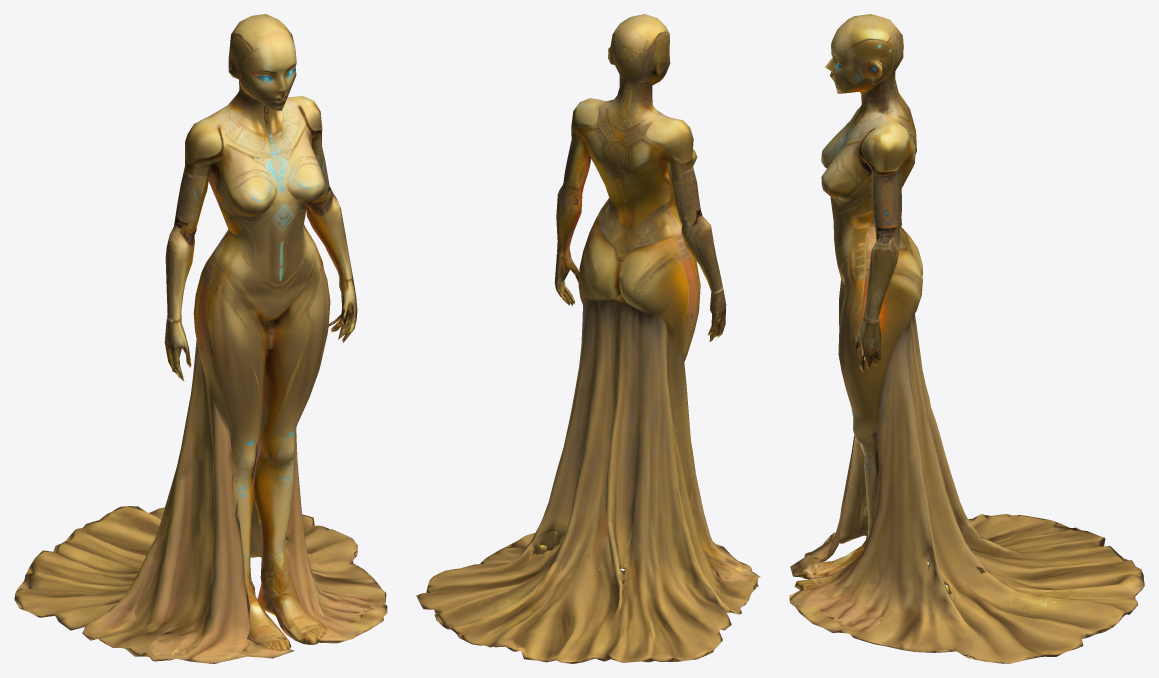
The model's file is An_ancient_android_gold_dress.glb.
3 renders of one model, left to right at view 1: azimuth 30°, elevation 25°; view 2: azimuth 150°, elevation 25°; view 3: azimuth 270°, elevation 25°, orthographic. The views are drawn at different scales.
Bounding box in the file's own units: 1.1 × 2 × 1.12.
1 material, 1 textured.
